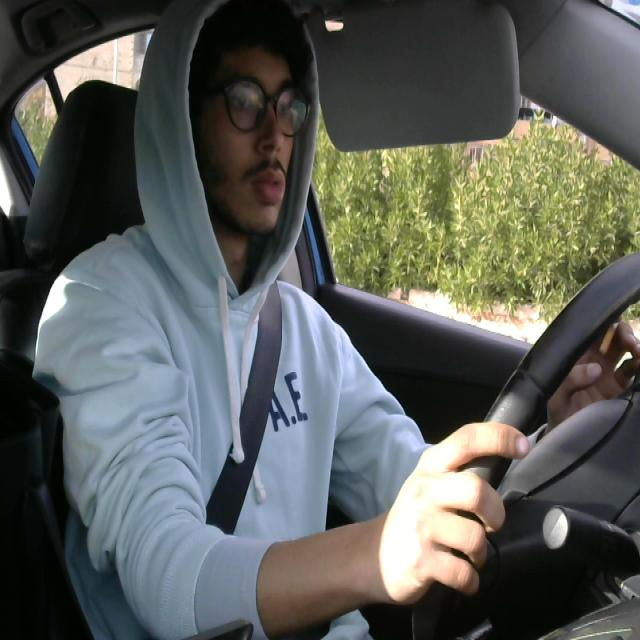smoking: (594, 289, 629, 355)
